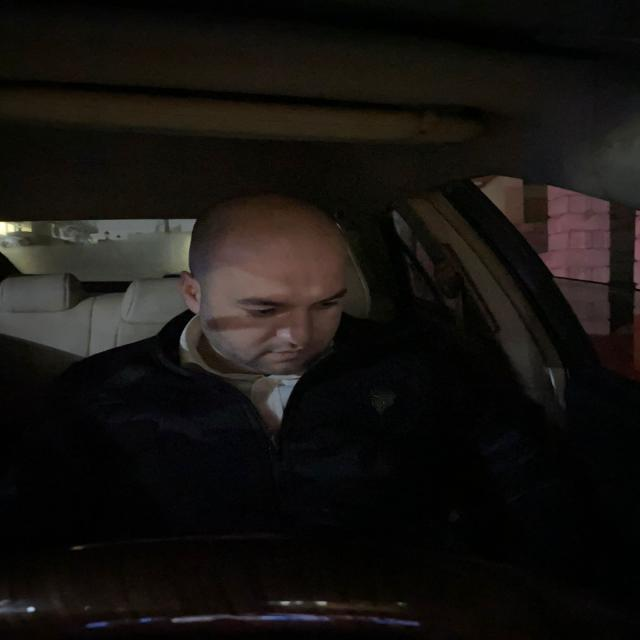person: (168, 191, 360, 392)
